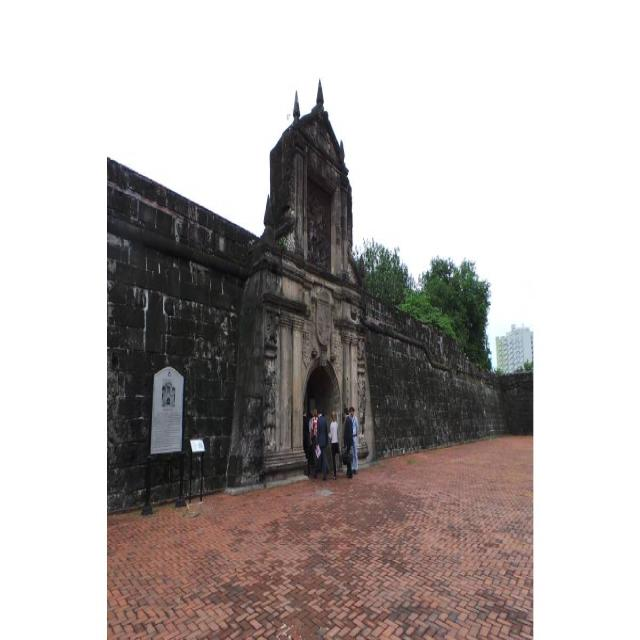Fort Santiago: (107, 79, 499, 518)
